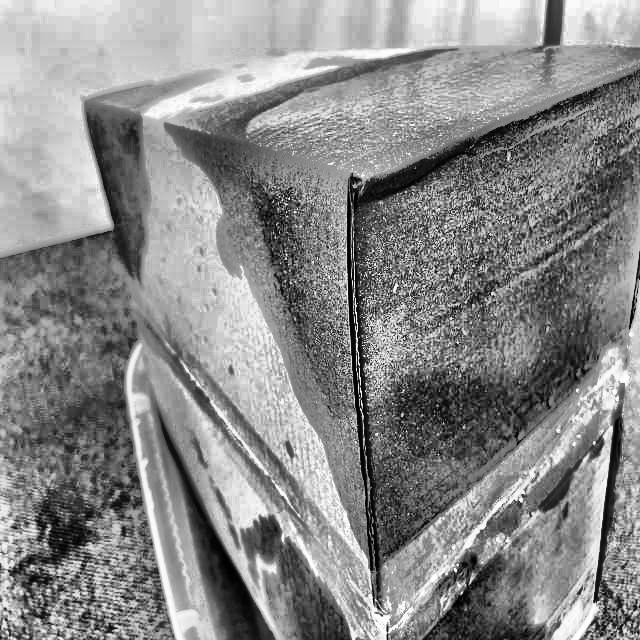box: (60, 30, 640, 640)
wet: (198, 50, 626, 556), (66, 74, 188, 282)
